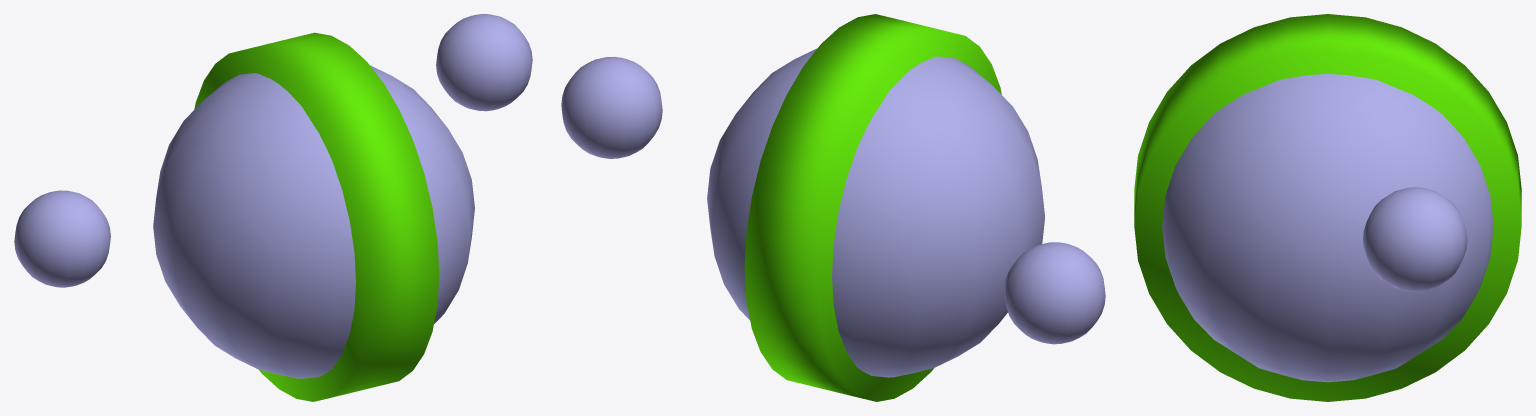
The model's file is actor_def_leader.fbx.
3 views of the same model, side by side, from view 1: azimuth 30°, elevation 25°; view 2: azimuth 150°, elevation 25°; view 3: azimuth 270°, elevation 25° (orthographic). The views are drawn at different scales.
Parts seen in each view (by area): view 1: Sphere, Cylinder, Sphere.002, Sphere.001; view 2: Sphere, Cylinder, Sphere.002, Sphere.001; view 3: Sphere, Cylinder, Sphere.001.
Part boxes in pixels (box(x1,y1,x2,y2)): Sphere: box(153, 65, 474, 378); Cylinder: box(194, 32, 439, 401); Sphere.002: box(14, 190, 110, 287); Sphere.001: box(436, 14, 532, 111); Sphere: box(707, 48, 1044, 377); Cylinder: box(744, 14, 1001, 401); Sphere.002: box(1004, 242, 1105, 344); Sphere.001: box(561, 56, 662, 158); Sphere: box(1162, 74, 1493, 382); Cylinder: box(1134, 14, 1521, 401); Sphere.001: box(1363, 187, 1467, 291).
Bounding box in the file's own units: 3.6 × 2.22 × 2.22.
